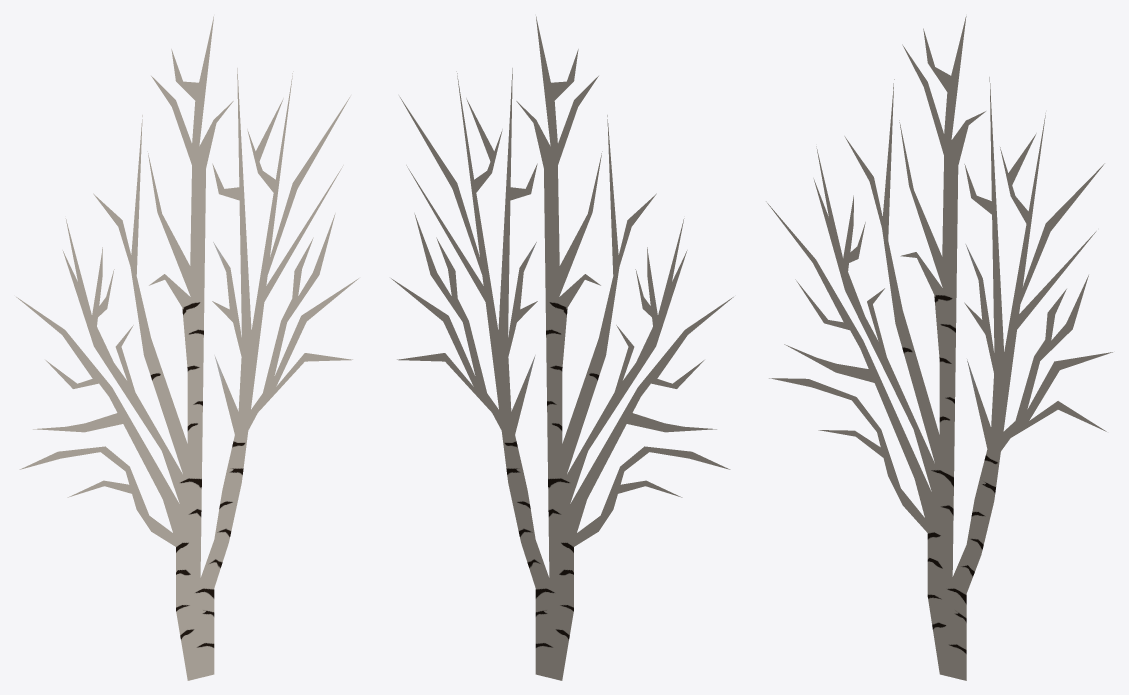
Rendered from Birch_02.fbx.
3 renders of one model, left to right at view 1: azimuth 30°, elevation 25°; view 2: azimuth 150°, elevation 25°; view 3: azimuth 330°, elevation 25°, orthographic.
Parts seen in each view (by area): view 1: planarTrimmedSurface1; view 2: planarTrimmedSurface1; view 3: planarTrimmedSurface1.
Boxes of the visible parts, left/top/right/bottom form: planarTrimmedSurface1: left=16, top=16, right=358, bottom=680; planarTrimmedSurface1: left=391, top=16, right=733, bottom=680; planarTrimmedSurface1: left=766, top=16, right=1112, bottom=680.
Size of the model in its own units: 13.38 by 24.34 by 0.
Materials: 3 (2 with a texture image).
